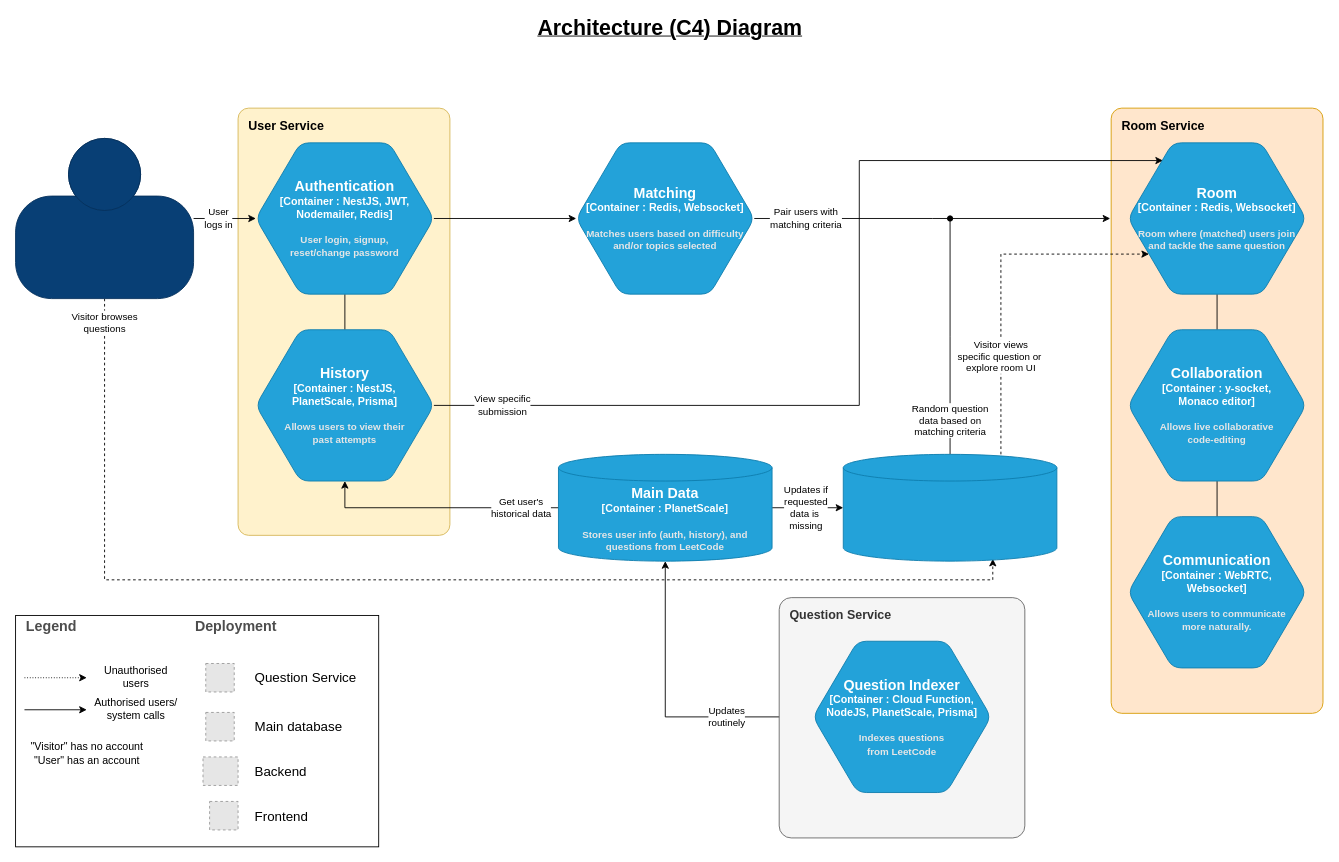
This 1339x862 diagram has some shape labels left out. Grey dashed boxes stand in for pictures. Each missing label, with the centre of its shape:
"Cache [Container : Redis] Store temporary or frequently accessed data" belongs at point 949,507.
"Visitor/User [Person] Visitor -> No account User -> Has account" belongs at point 104,218.
